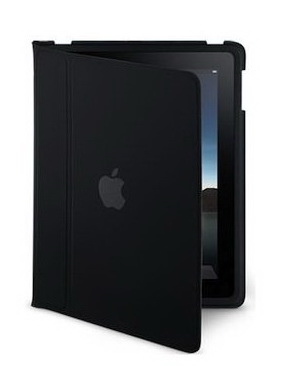Apple: (79, 155, 149, 215)
